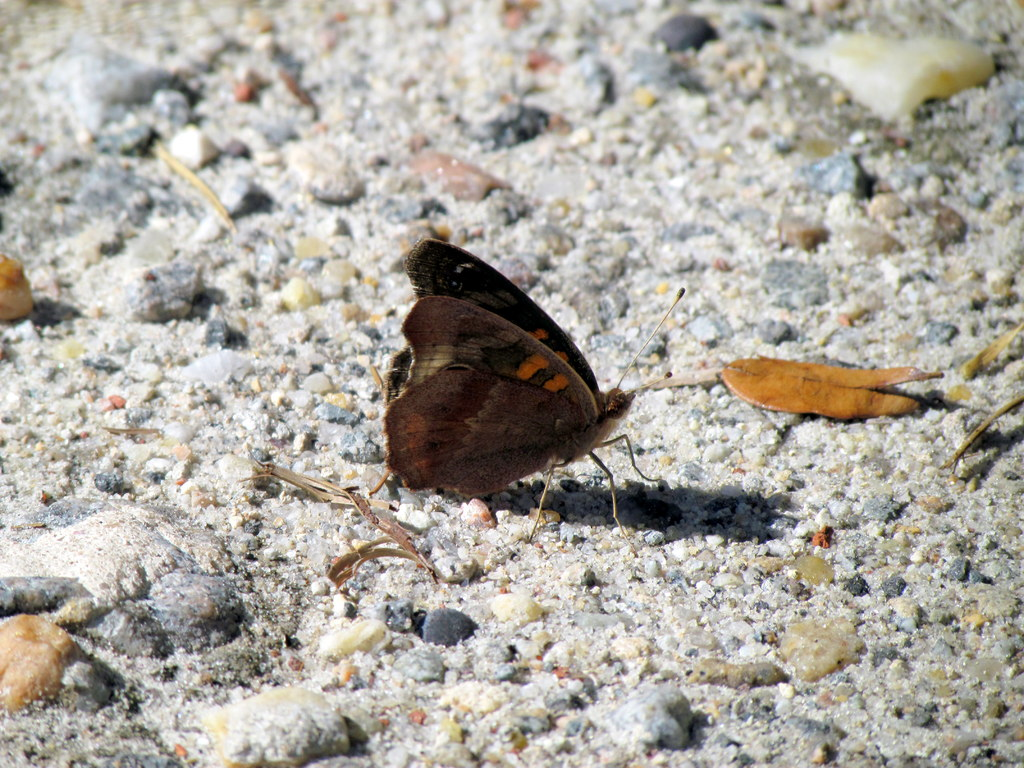Butterfly: (358, 232, 675, 549)
